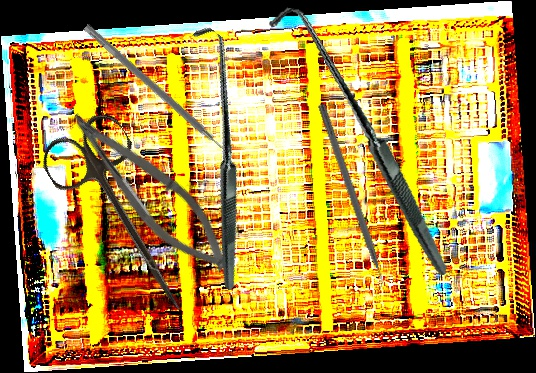Chopper: (306, 101, 392, 302)
Hook Surgical: (82, 22, 351, 291), (228, 4, 491, 276)
Iris Scissors: (34, 106, 221, 332)
Micro Scissor: (52, 101, 245, 283)
Spatula Surgical: (77, 23, 235, 164)
